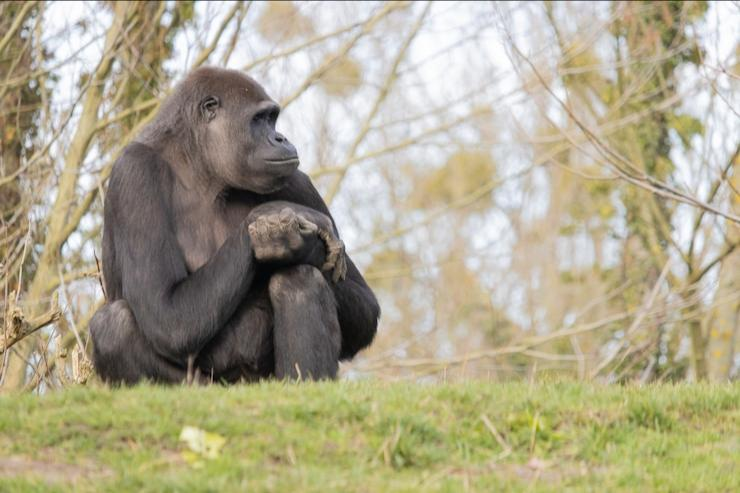gorille_Autres: (51, 0, 363, 379)
